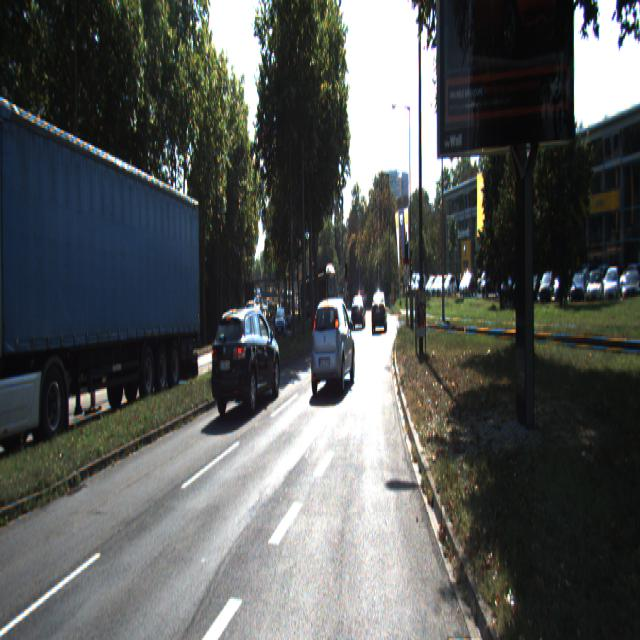Car: (0, 108, 204, 482), (210, 307, 282, 423), (309, 296, 356, 395), (305, 270, 337, 322), (234, 312, 256, 359), (371, 292, 387, 334), (351, 296, 366, 329), (274, 308, 287, 341)
